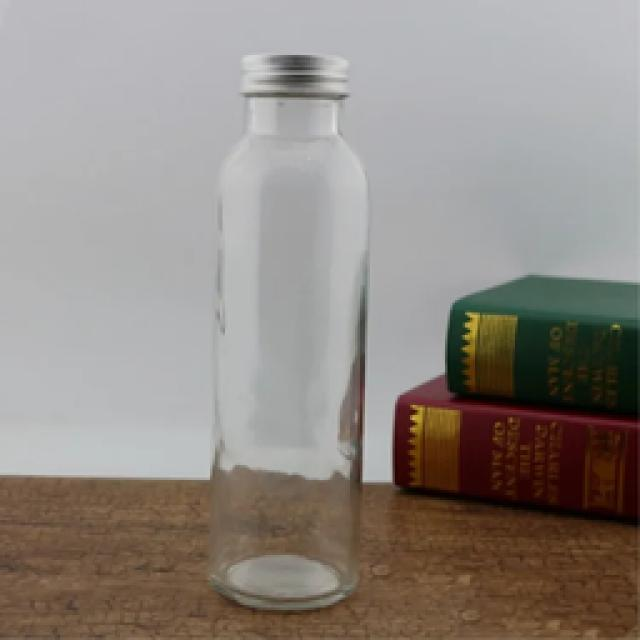glass_beverage_bottles: (217, 43, 365, 607)
